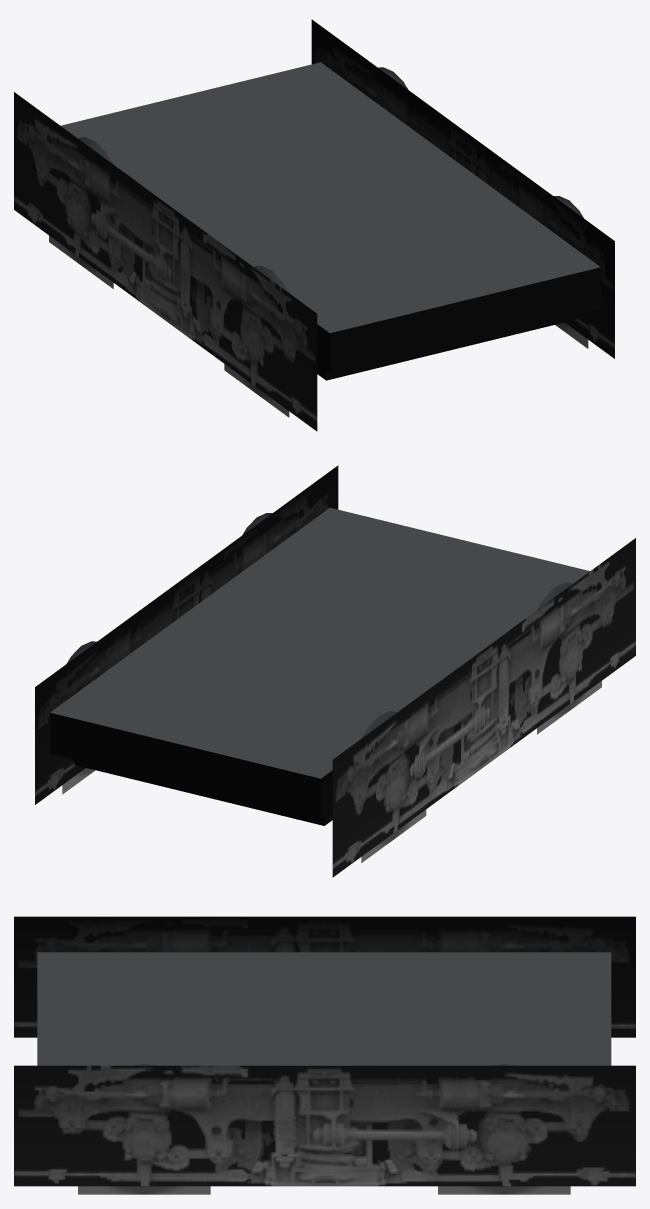
The model's file is TRACK_86.glb.
The picture shows the model from 3 angles, top to bottom: view 1: azimuth 30°, elevation 25°; view 2: azimuth 150°, elevation 25°; view 3: azimuth 270°, elevation 25°; orthographic projection. The views are drawn at different scales.
Visible parts, largest first — view 1: track; view 2: track; view 3: track.
Boxes of the visible parts, <box> form: track: <box>14,19,614,431</box>; track: <box>35,465,635,877</box>; track: <box>14,916,635,1194</box>.
Bounding box in the file's own units: 4.95 × 1.94 × 8.17.
Materials: 3 (3 with a texture image).
